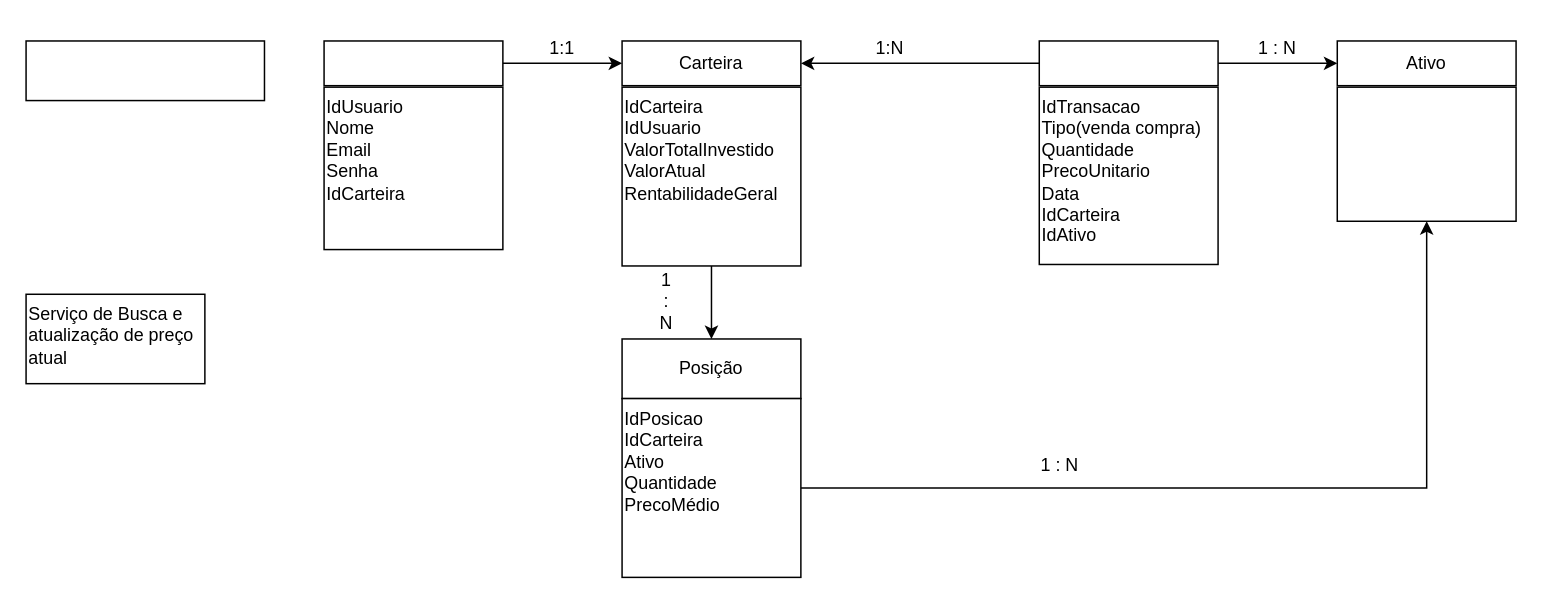
This 1542x603 diagram has some shape labels left out. Each missing label, with the centre of its shape:
"HistóricoRentabilidade" belongs at [144,70].
"IdAtivo Ticker Nome PrecoAtual Tipo" belongs at [1426,153].
"Transação" belongs at [1128,62].
"Usuario" belongs at [413,62].
